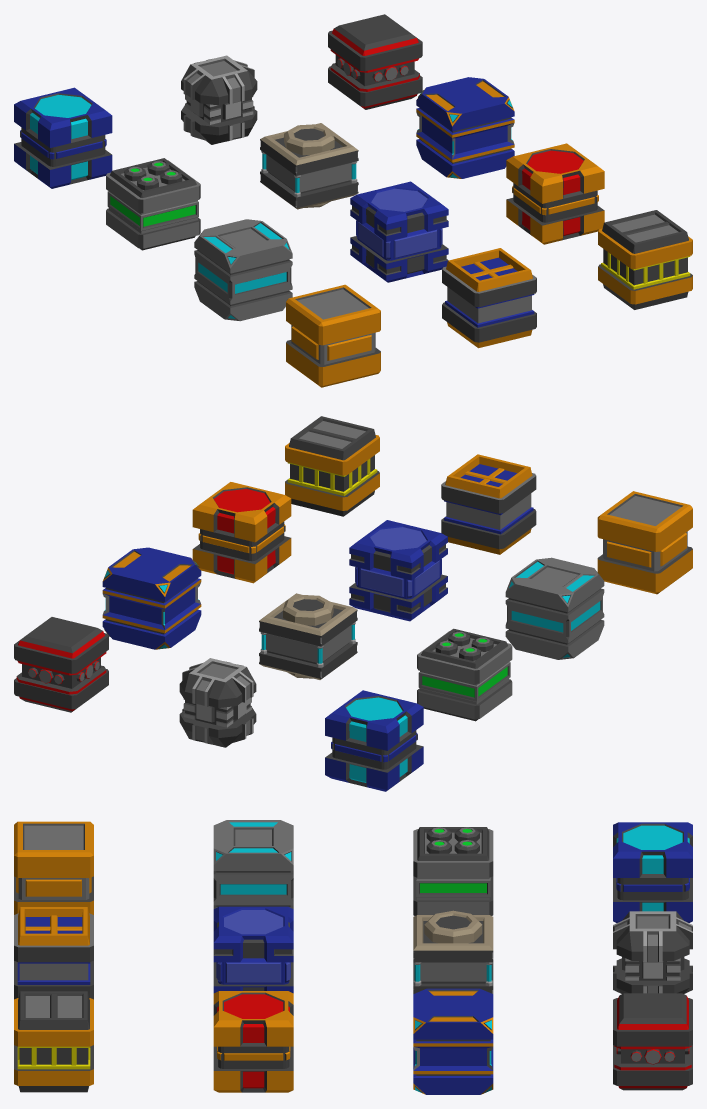
The model's file is ToolCrates00.fbx.
The picture shows the model from 3 angles, top to bottom: view 1: azimuth 30°, elevation 25°; view 2: azimuth 150°, elevation 25°; view 3: azimuth 270°, elevation 25°; orthographic projection. The views are drawn at different scales.
Parts seen in each view (by area): view 1: ToolCrate08.001, ToolCrate03, ToolCrate00, ToolCrate05.001, ToolCrate09.001, ToolCrate04, ToolCrate02.001, ToolCrate01.001, ToolCrate11.001, ToolCrate06.001, ToolCrate07.001, ToolCrate10.001 (+24 smaller); view 2: ToolCrate08.001, ToolCrate03, ToolCrate00, ToolCrate05.001, ToolCrate09.001, ToolCrate04, ToolCrate01.001, ToolCrate02.001, ToolCrate11.001, ToolCrate06.001, ToolCrate07.001, ToolCrate10.001 (+24 smaller); view 3: ToolCrate08.001, ToolCrate03, ToolCrate04, ToolCrate00, ToolCrate05.001, ToolCrate09.001, ToolCrate02.001, ToolCrate01.001, ToolCrate11.001, ToolCrate06.001, ToolCrate07.001, ToolCrate10.001 (+23 smaller).
Boxes of the visible parts, x1,y1,x2,y2 form: ToolCrate08.001: (416, 77, 514, 137); ToolCrate03: (194, 219, 292, 279); ToolCrate00: (286, 284, 380, 345); ToolCrate05.001: (506, 143, 604, 203); ToolCrate09.001: (14, 87, 112, 147); ToolCrate04: (350, 181, 448, 241); ToolCrate02.001: (598, 210, 692, 268); ToolCrate01.001: (442, 248, 536, 307); ToolCrate11.001: (328, 14, 422, 71); ToolCrate06.001: (106, 158, 200, 213); ToolCrate07.001: (260, 123, 358, 175); ToolCrate10.001: (181, 55, 257, 105); ToolCrate08.001: (102, 547, 201, 608); ToolCrate03: (505, 557, 604, 618); ToolCrate00: (597, 491, 692, 551); ToolCrate05.001: (192, 482, 291, 542); ToolCrate09.001: (325, 690, 423, 750); ToolCrate04: (349, 520, 447, 580); ToolCrate01.001: (441, 454, 536, 513); ToolCrate02.001: (285, 416, 379, 475); ToolCrate11.001: (14, 617, 108, 673); ToolCrate06.001: (417, 628, 512, 683); ToolCrate07.001: (259, 593, 357, 646); ToolCrate10.001: (179, 658, 256, 707); ToolCrate08.001: (413, 988, 493, 1046); ToolCrate03: (213, 820, 293, 877); ToolCrate04: (213, 906, 293, 962); ToolCrate00: (14, 821, 93, 877); ToolCrate05.001: (213, 991, 293, 1046); ToolCrate09.001: (613, 822, 692, 877); ToolCrate02.001: (14, 991, 93, 1046); ToolCrate01.001: (14, 907, 93, 962); ToolCrate11.001: (613, 993, 692, 1046); ToolCrate06.001: (413, 827, 493, 877); ToolCrate07.001: (413, 910, 493, 962); ToolCrate10.001: (613, 911, 692, 962).
Bounding box in the file's own units: 2.4 × 0.4 × 3.4.
